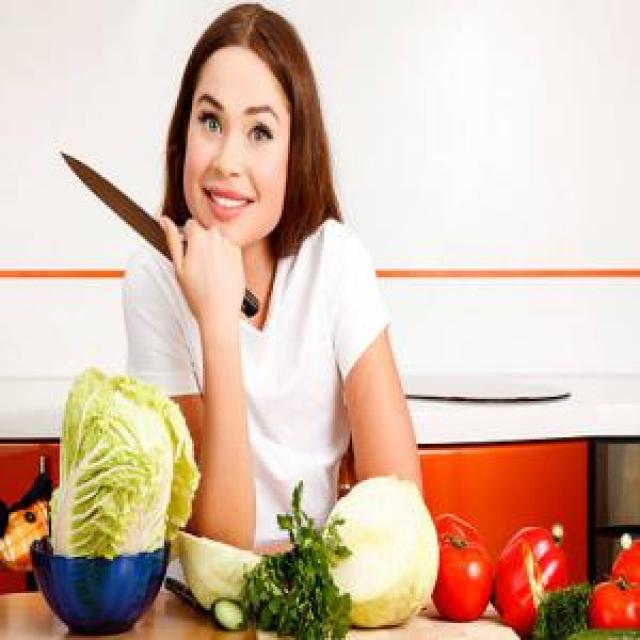knife: (58, 147, 264, 321)
